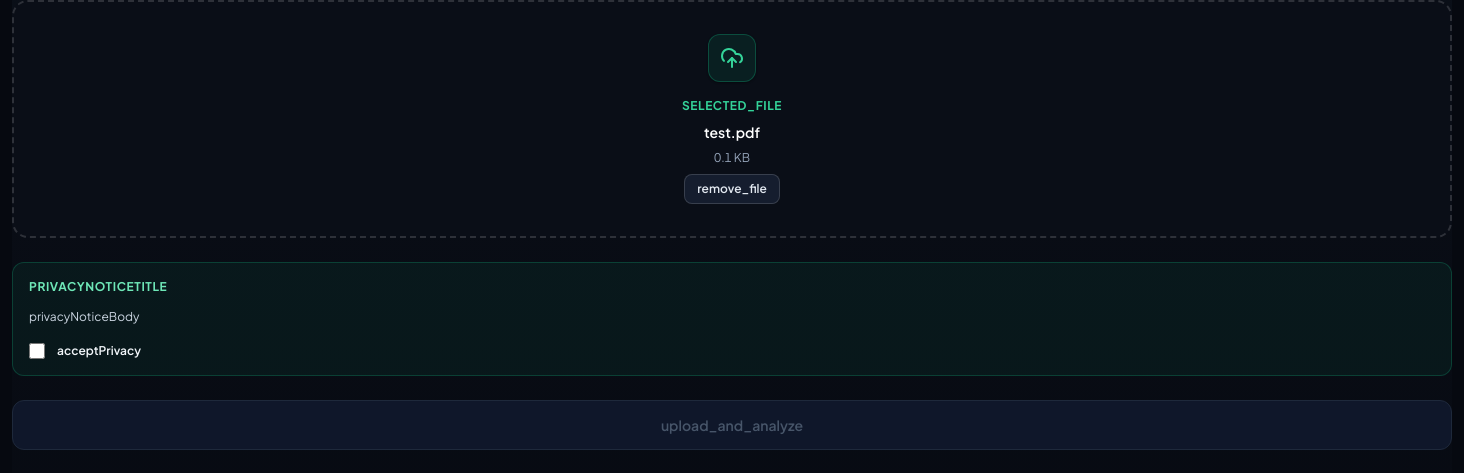
Scenario: DocumentUploadForm — automatic upload-to-questions flow (Phase 13) › shows a safe message (no technical detail) when no usable questions were found
The image size is (1464, 473).
Earlier steps of the test are not shown.
Click the checkbox at {"x": 37, "y": 350}, box left=29, top=342, right=45, bottom=358
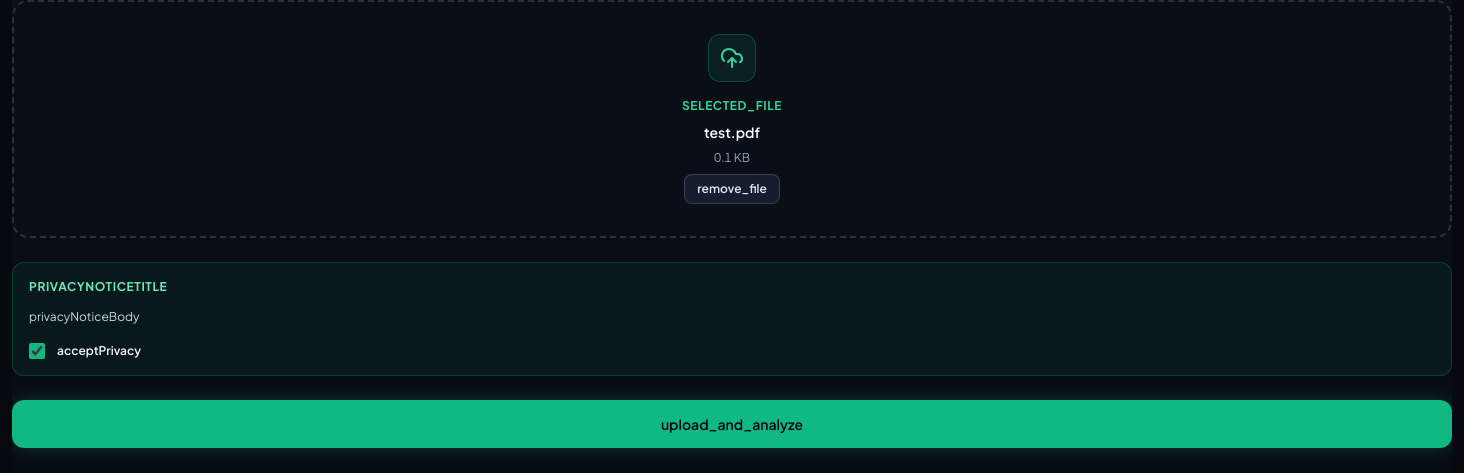
Click the button "upload_and_analyze" at {"x": 732, "y": 424}, box left=12, top=400, right=1452, bottom=448
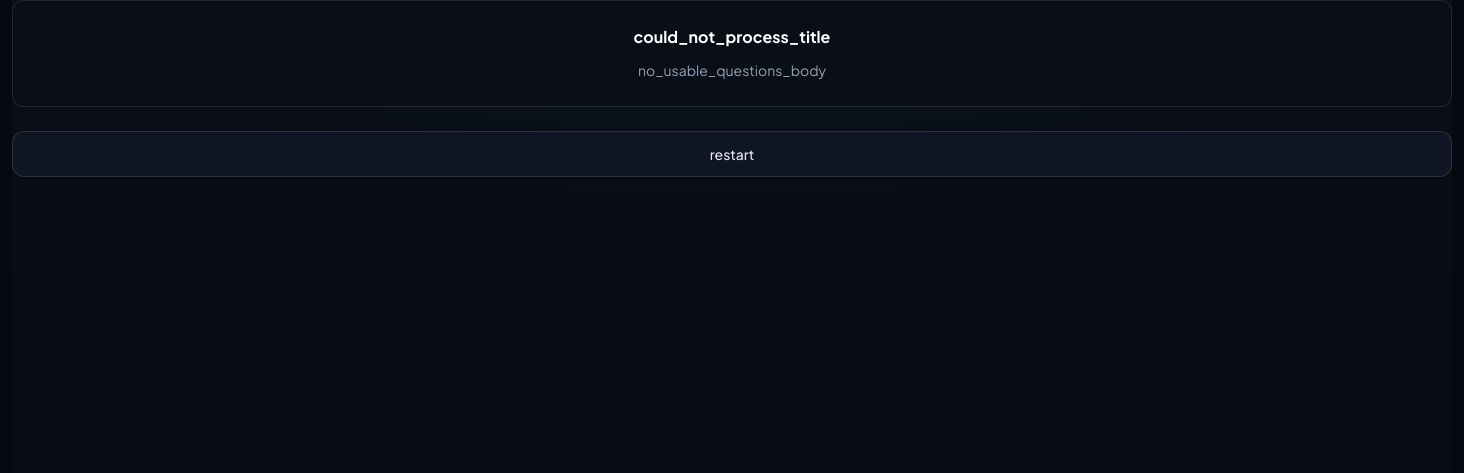
Check: the heading "could_not_process_title" is shown, box left=634, top=26, right=830, bottom=47
Check: the text "no_usable_questions_body" is shown, box left=638, top=61, right=826, bottom=79
